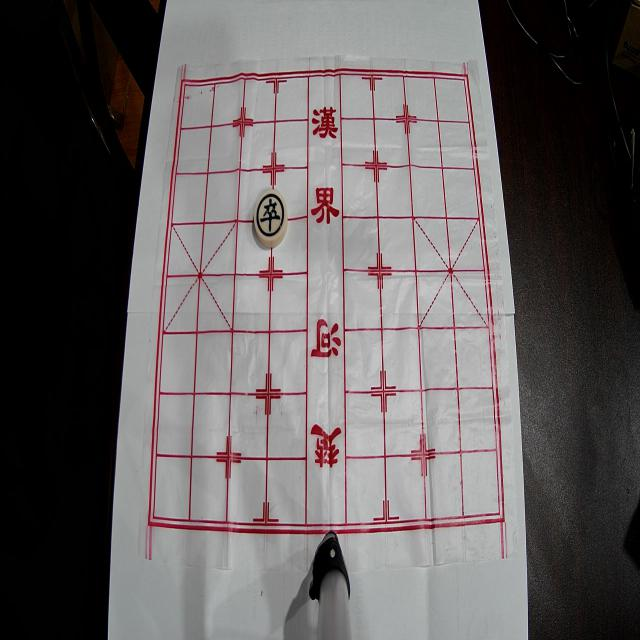black-soldier: (254, 190, 288, 248)
